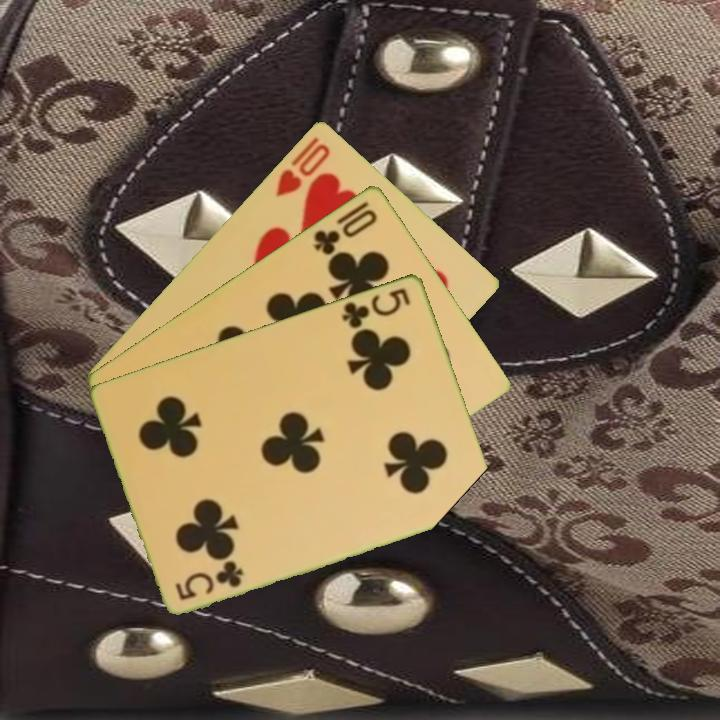10c: (310, 204, 380, 258)
10h: (272, 132, 333, 199)
5c: (338, 284, 414, 331), (172, 557, 247, 603)
